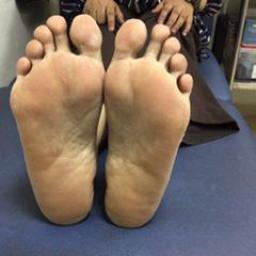Plantar View -Both Feet-: (3, 8, 200, 238)
